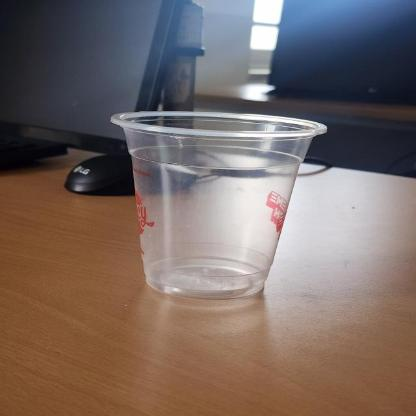Plastic Cup: (109, 110, 327, 302)
